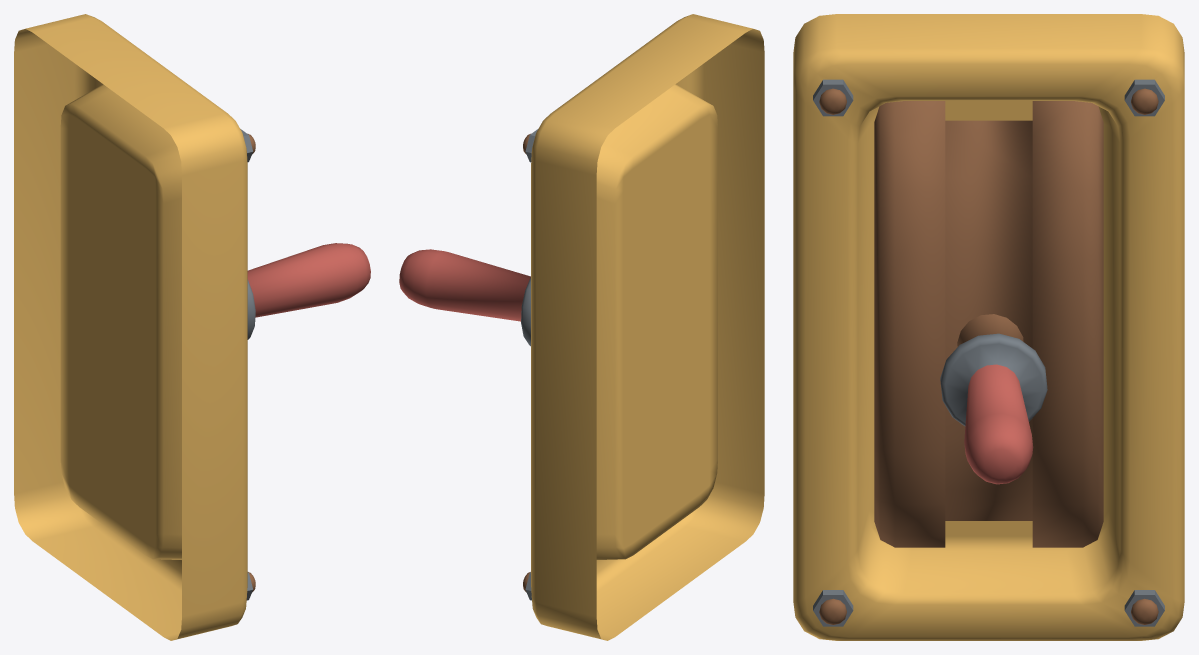
File: Lever.fbx
The picture shows the model from 3 angles, left to right: view 1: azimuth 30°, elevation 25°; view 2: azimuth 150°, elevation 25°; view 3: azimuth 270°, elevation 25°; orthographic projection. The views are drawn at different scales.
Visible parts, largest first — view 1: Lever_Body, Lever_Switch; view 2: Lever_Body, Lever_Switch; view 3: Lever_Body, Lever_Middle, Lever_Switch, Lever_Bolt_03, Lever_Bolt_04, Lever_Bolt_01, Lever_Bolt_02, Lever_Screw_01, Lever_Screw_02, Lever_Screw_03, Lever_Screw_04.
Part boxes in pixels (x1,y1,x2,y2): Lever_Body: (14, 14, 247, 640); Lever_Switch: (247, 243, 370, 339); Lever_Body: (531, 14, 764, 640); Lever_Switch: (399, 249, 530, 346); Lever_Body: (793, 14, 1184, 640); Lever_Middle: (874, 101, 1103, 547); Lever_Switch: (940, 314, 1047, 484); Lever_Bolt_03: (813, 79, 853, 116); Lever_Bolt_04: (1124, 79, 1164, 116); Lever_Bolt_01: (813, 590, 853, 626); Lever_Bolt_02: (1124, 590, 1164, 626); Lever_Screw_01: (819, 598, 846, 624); Lever_Screw_02: (1131, 598, 1158, 624); Lever_Screw_03: (819, 88, 846, 114); Lever_Screw_04: (1131, 88, 1158, 114).
Bounding box in the file's own units: 427 × 762 × 456.
